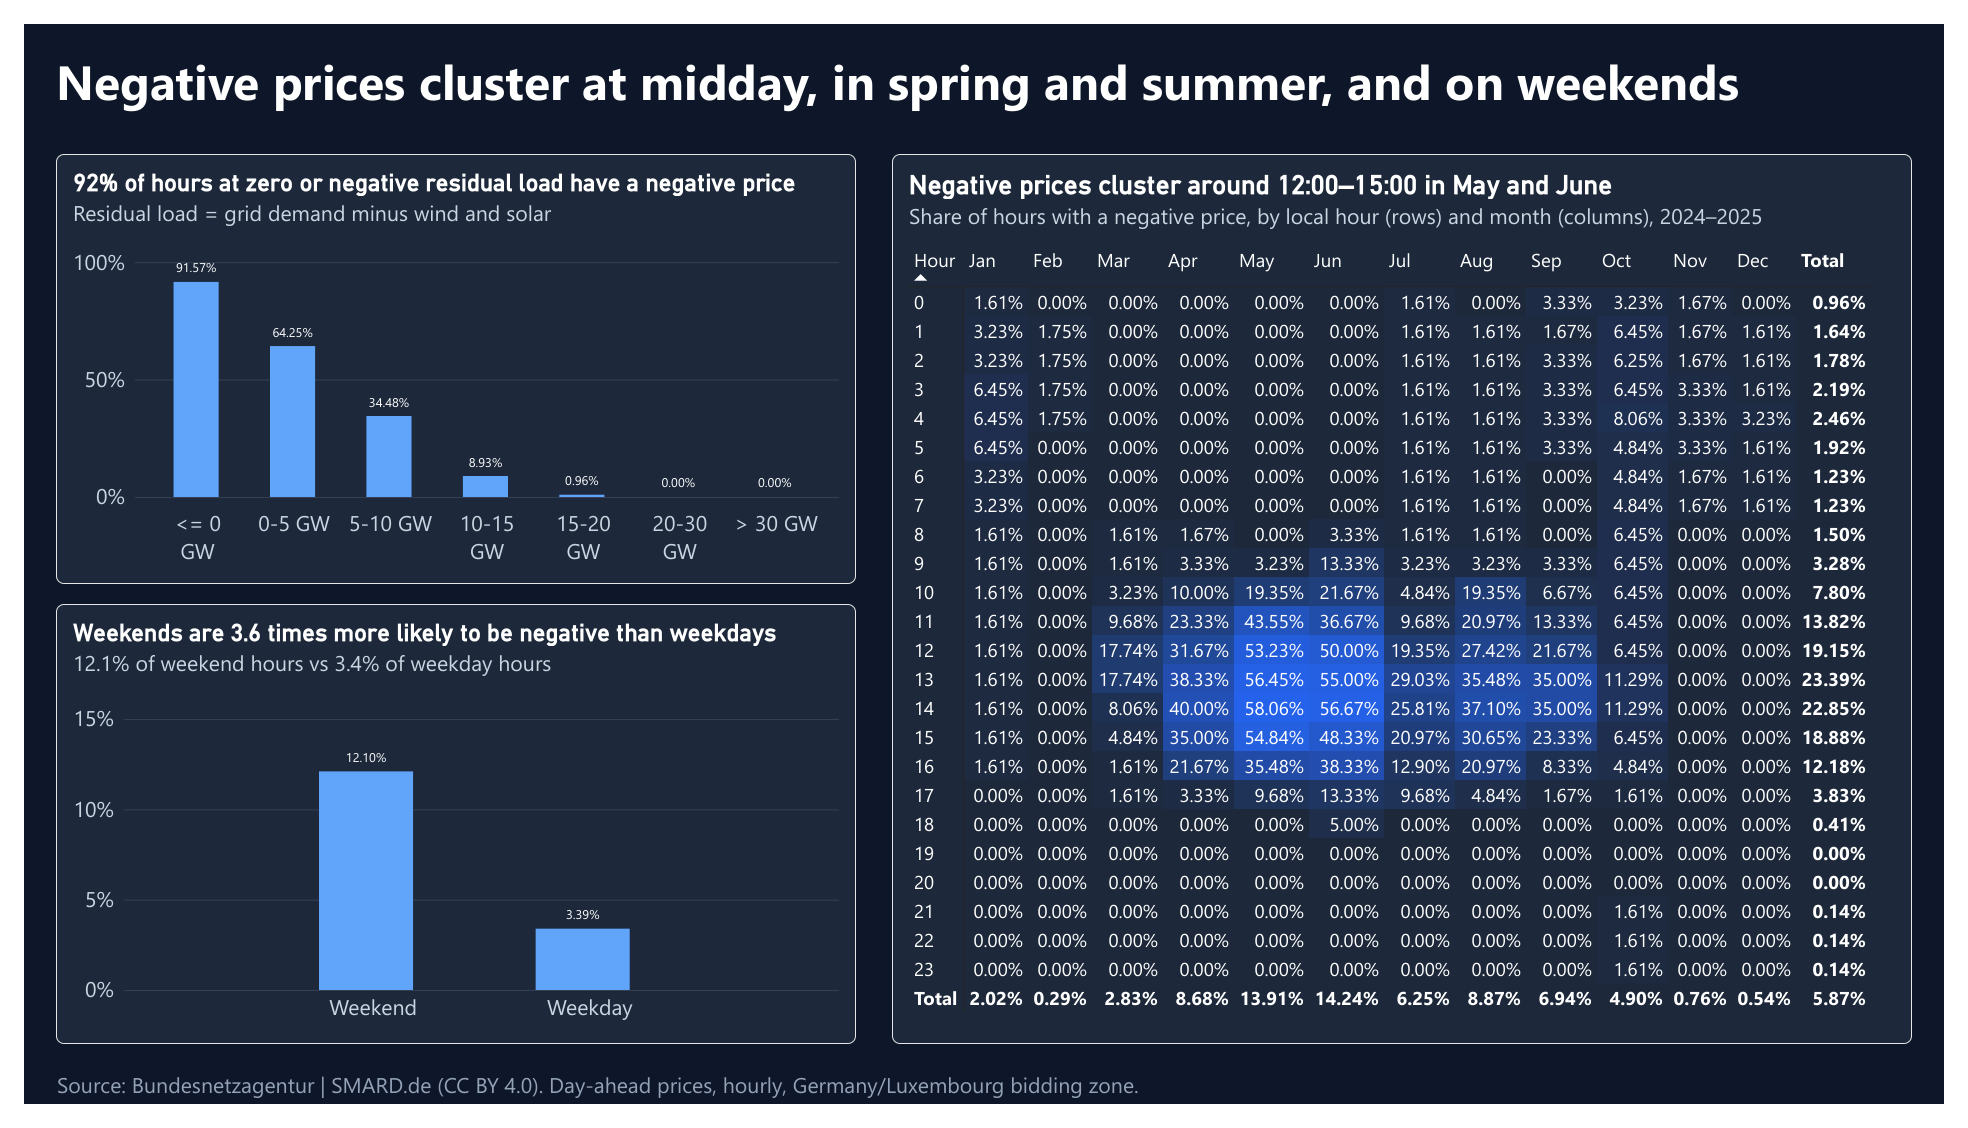

The dashboard page shown, as its layout file describes it:
{"tool":"powerbi","page":{"name":"Page 2","canvas":[1920,1080],"ordinal":1},"visuals":[{"type":"clusteredColumnChart","title":"92% of hours at zero or negative residual load have a negative price","fields":{"Category":["market_hours.residual_load_band"],"Y":["market_hours.Negative Share"]},"box":[32,130,800,430],"z":0},{"type":"clusteredColumnChart","title":"Weekends are 3.6 times more likely to be negative than weekdays","fields":{"Category":["market_hours.day_type"],"Y":["market_hours.Negative Share"]},"box":[32,580,800,440],"z":1000},{"type":"pivotTable","title":"Negative prices cluster around 12:00–15:00 in May and June","fields":{"Columns":["market_hours.month_name"],"Rows":["market_hours.hour"],"Values":["market_hours.Negative Share"]},"box":[868,130,1020,890],"z":2000},{"type":"textbox","box":[32,24,1856,80],"z":3000},{"type":"textbox","box":[32.5,1046.3,1854,29.5],"z":4000}]}

Visuals, with their boxes in screenshot pixels (x1, y1, x2, y2), scaled from the page's 1920x1080 canvas onto the 1968x1128 screenshot:
"92% of hours at zero or negative residual load have a negative price" clusteredColumnChart: [left=33, top=136, right=853, bottom=585]
"Weekends are 3.6 times more likely to be negative than weekdays" clusteredColumnChart: [left=33, top=606, right=853, bottom=1065]
"Negative prices cluster around 12:00–15:00 in May and June" pivotTable: [left=890, top=136, right=1935, bottom=1065]
textbox: [left=33, top=25, right=1935, bottom=109]
textbox: [left=33, top=1093, right=1934, bottom=1124]
